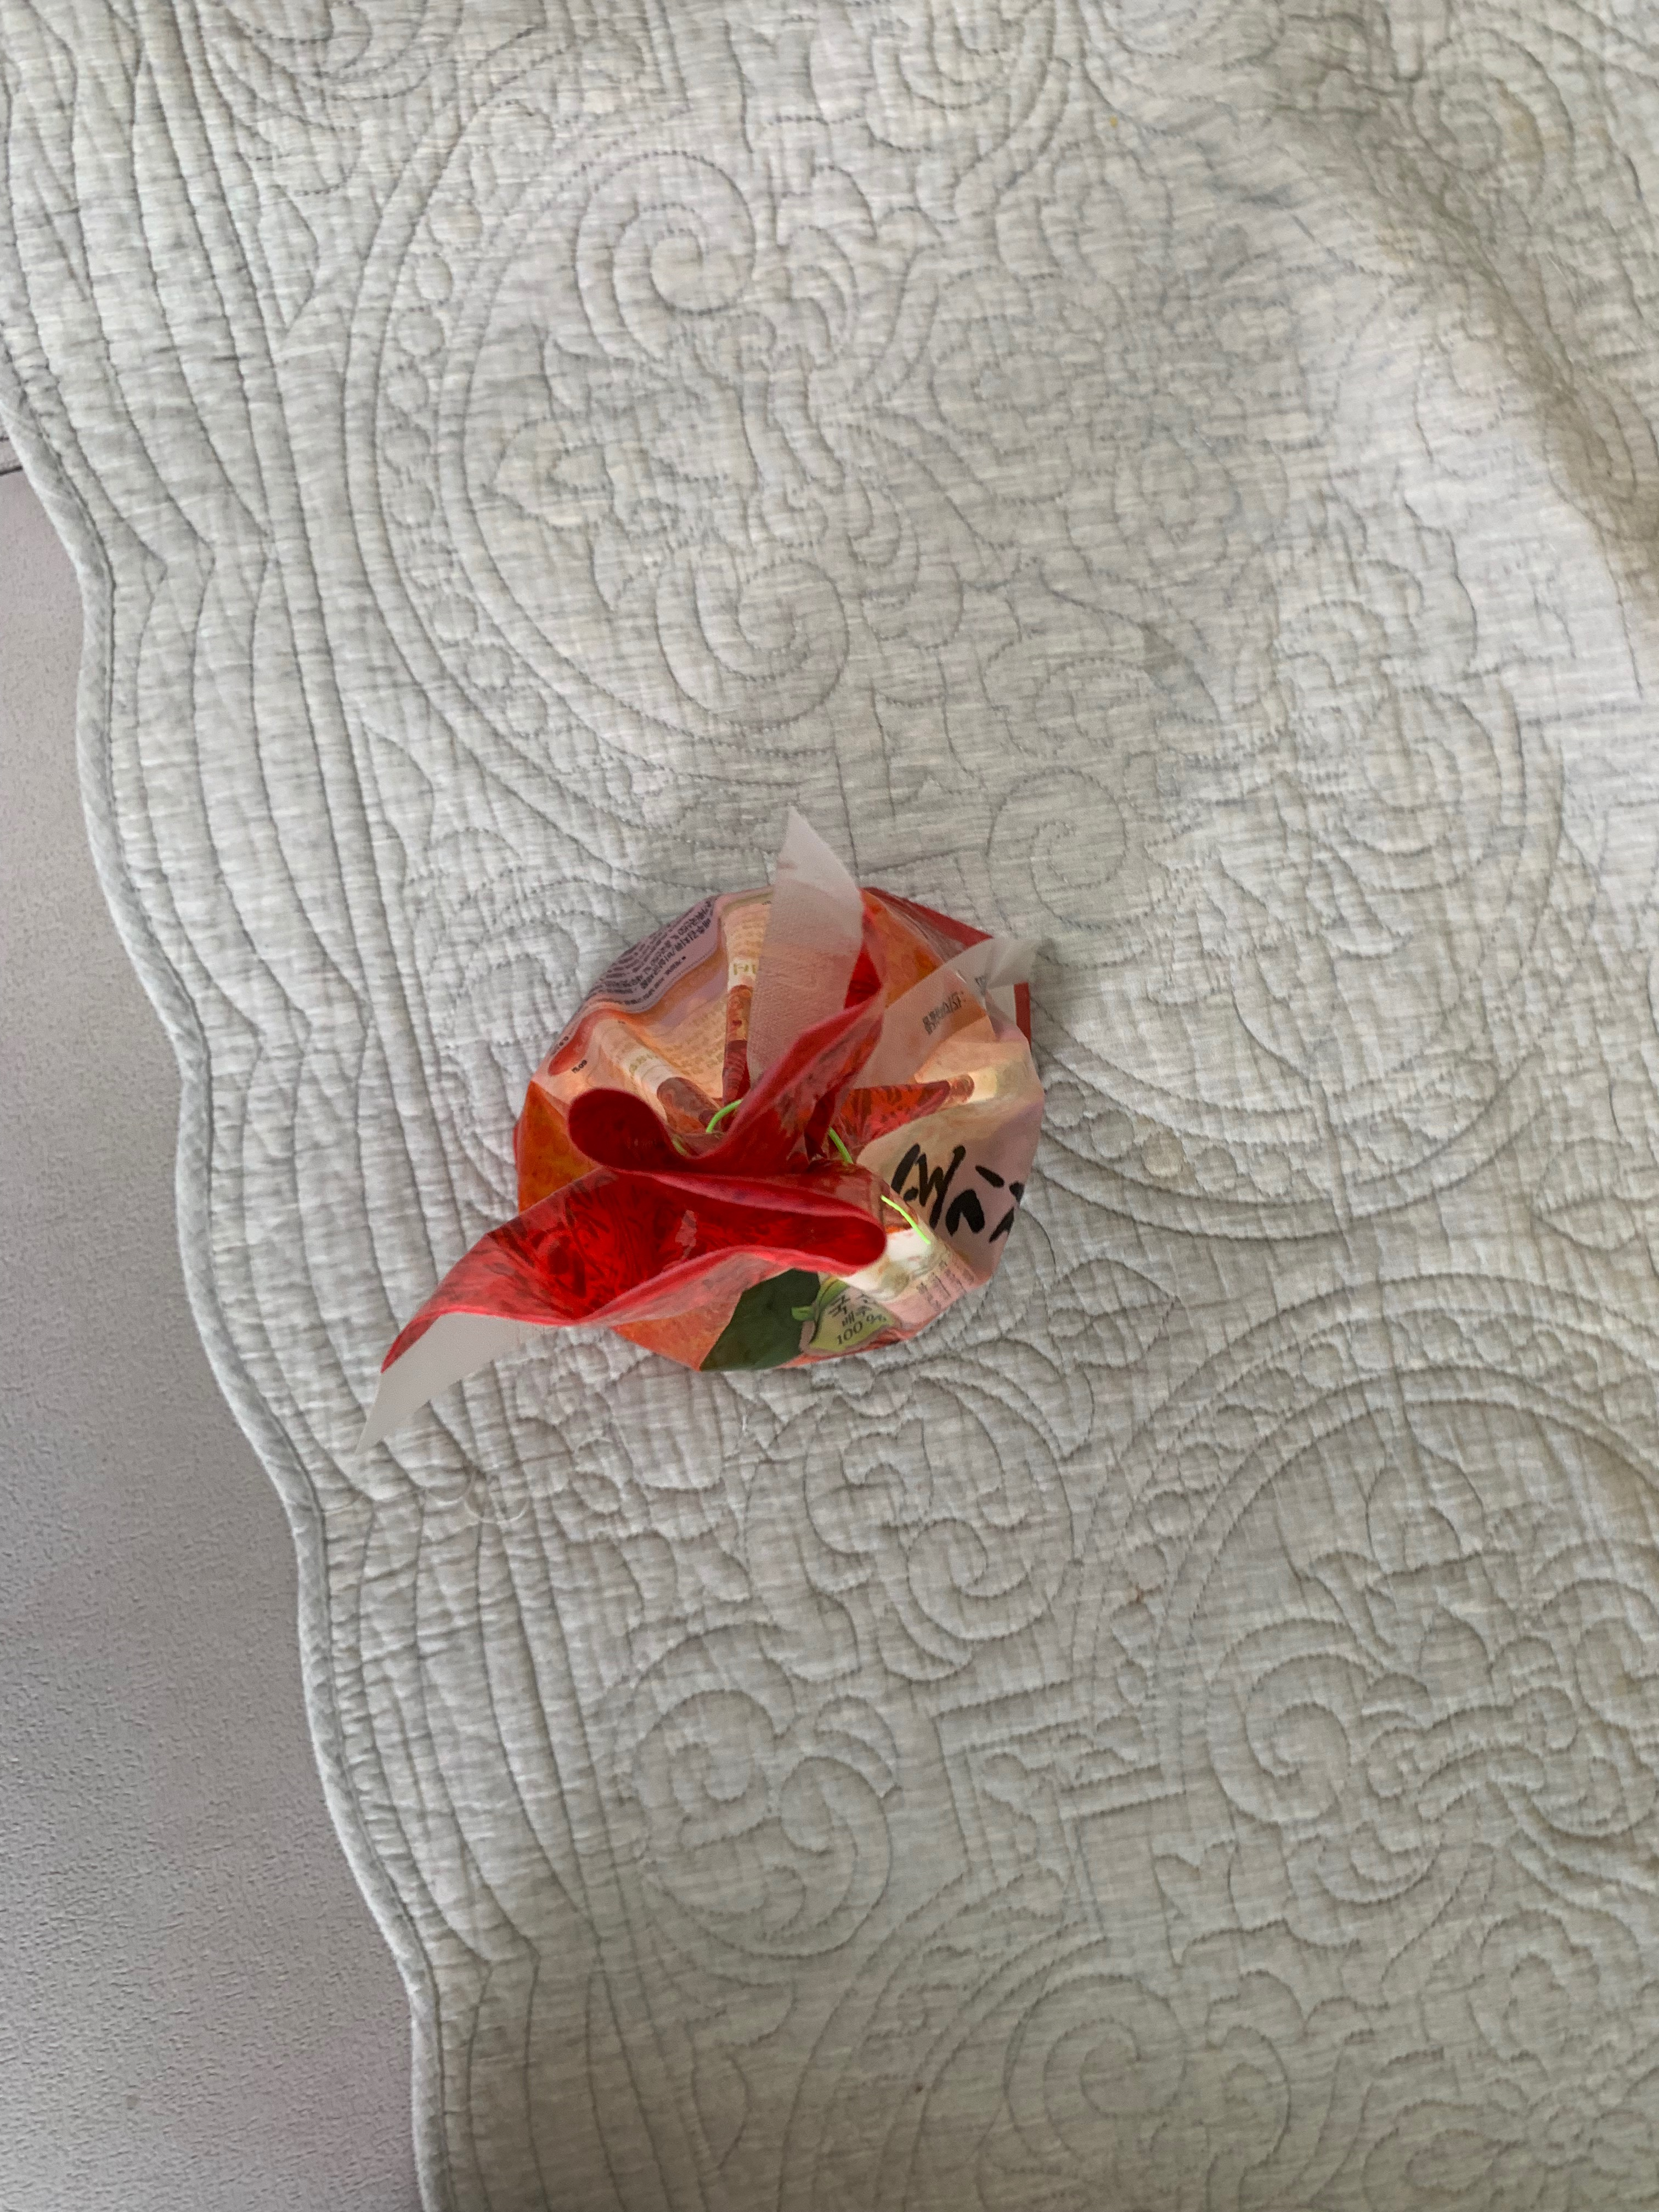kimchi: (504, 881, 1049, 1383)
